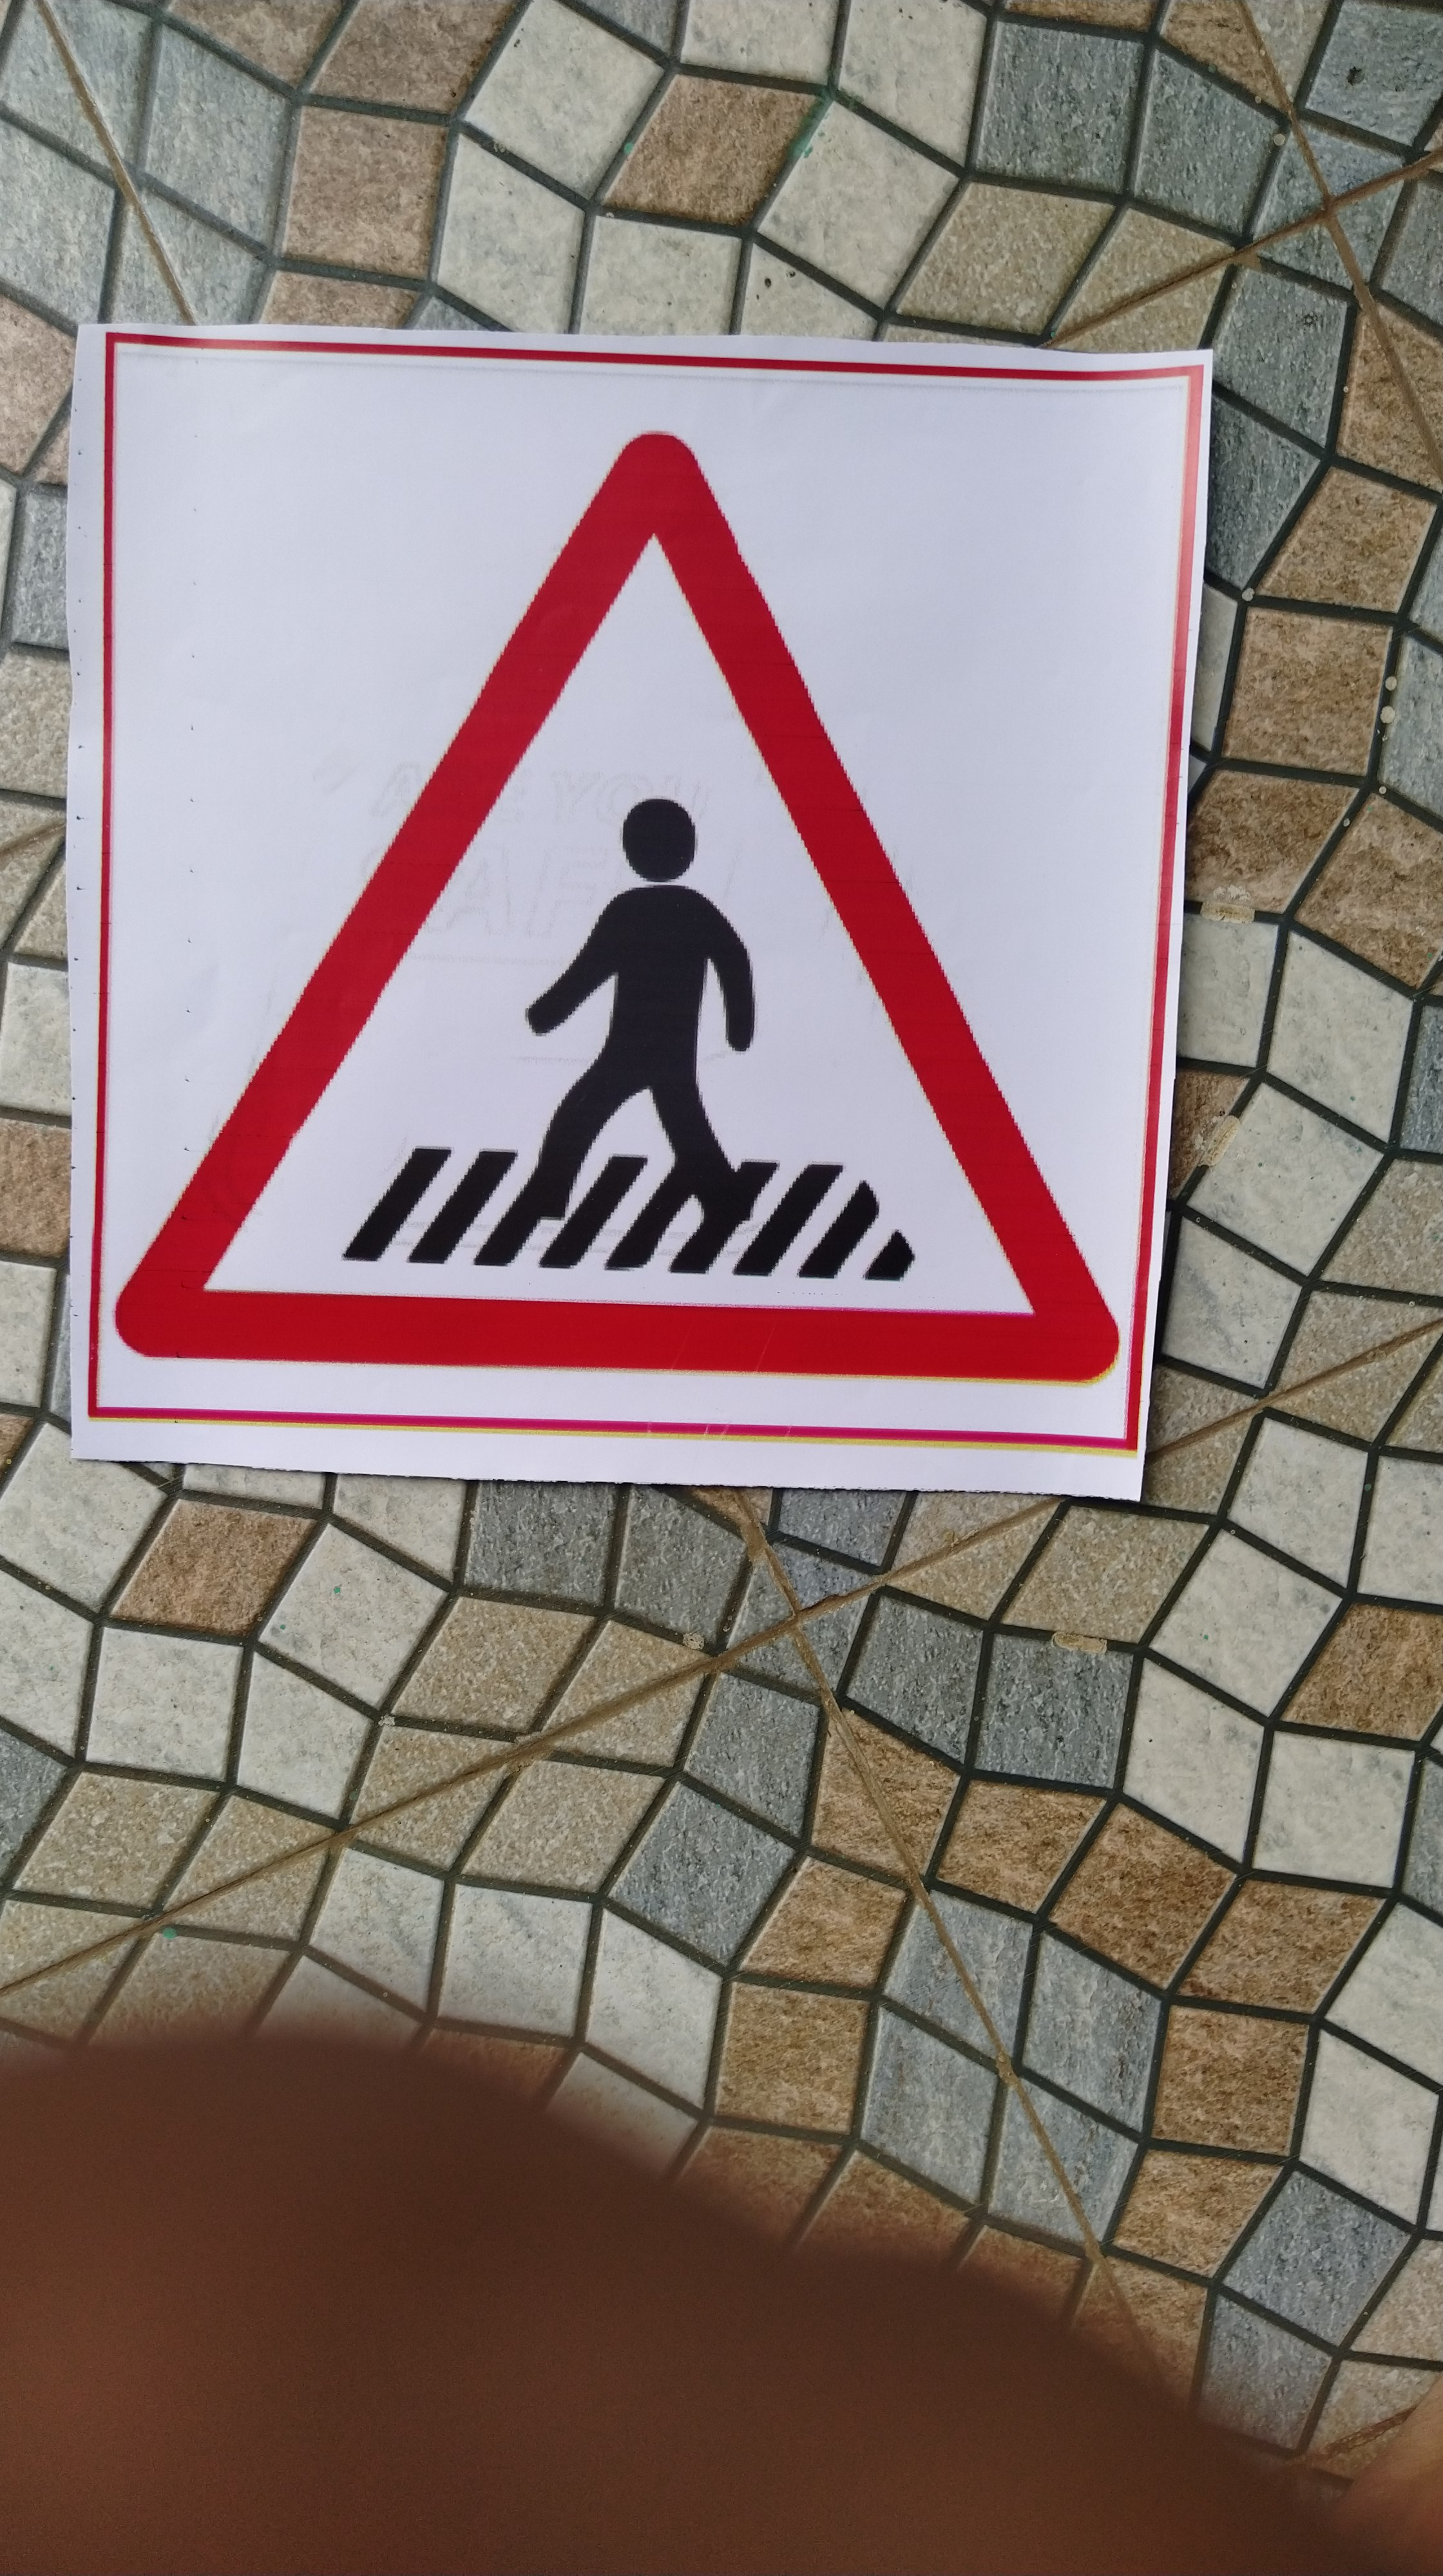pedestrain crossing: (122, 357, 1153, 1453)
